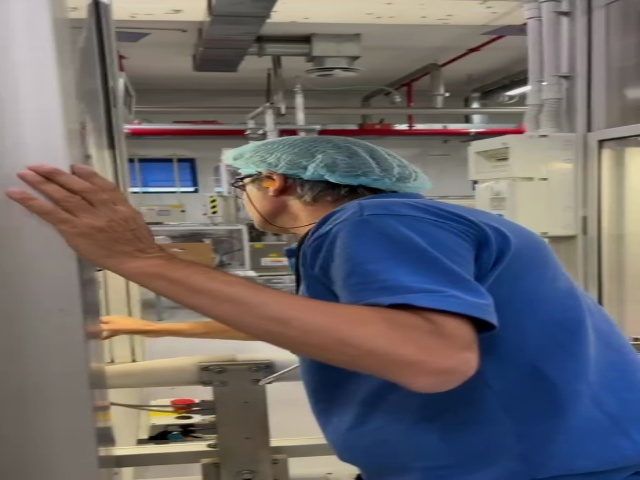Earplug: (262, 170, 283, 196)
Hairnet: (227, 136, 430, 191)
No_Helmet: (229, 137, 434, 190)
No_Vest: (298, 198, 640, 474)
Person: (4, 136, 640, 480)
Safety_Goggles: (223, 166, 275, 191)
